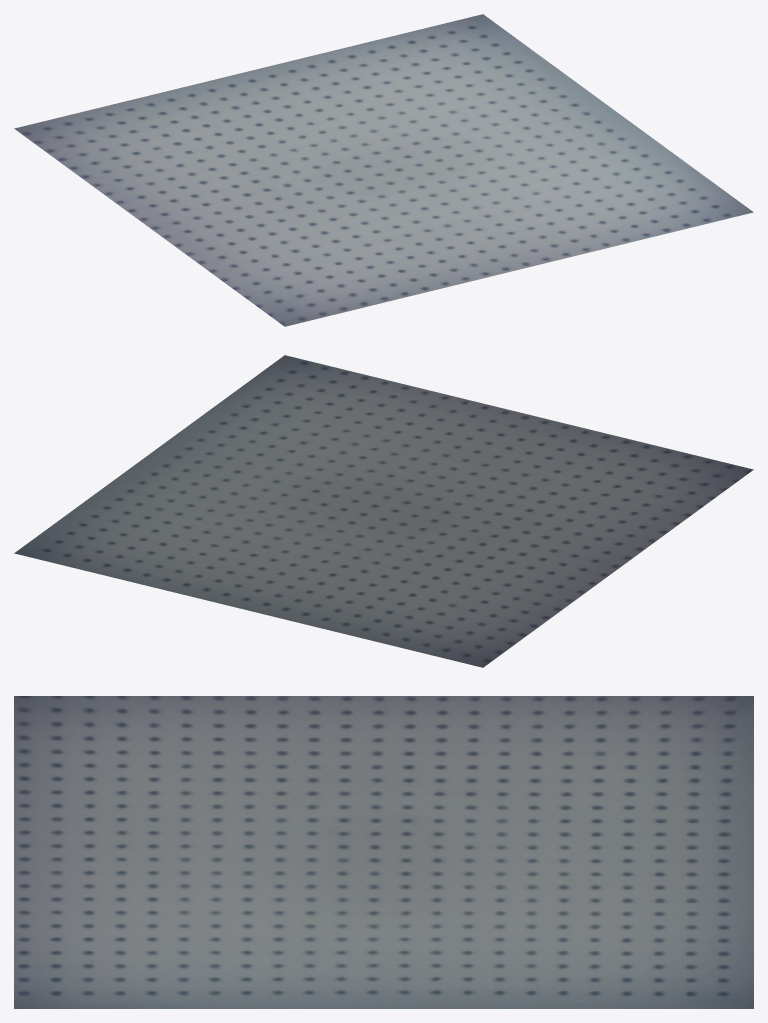
File: surface_texture.obj
3 renders of one model, top to bottom at view 1: azimuth 30°, elevation 25°; view 2: azimuth 150°, elevation 25°; view 3: azimuth 270°, elevation 25°, orthographic. The views are drawn at different scales.
Visible parts, largest first — view 1: surface_texture; view 2: surface_texture; view 3: surface_texture.
Part boxes in pixels (x1,y1,x2,y2): surface_texture: [14, 14, 753, 326]; surface_texture: [14, 355, 753, 667]; surface_texture: [14, 696, 753, 1008].
Bounding box in the file's own units: 26 × 0 × 26.
1 material, 1 textured.
